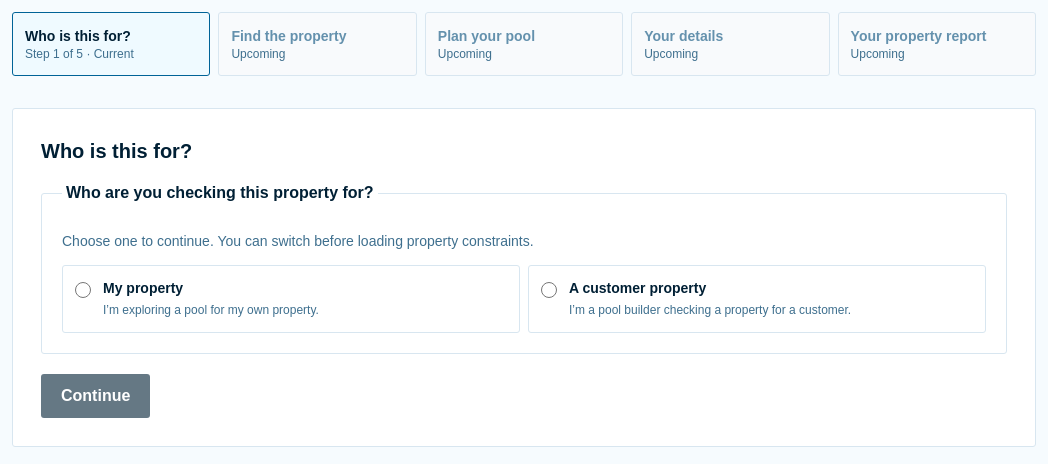
Test: PropertyCheckJourney › announces when autocomplete has no matching addresses
Click the radio button labelled "My property": (83,290) [75,282,91,298]
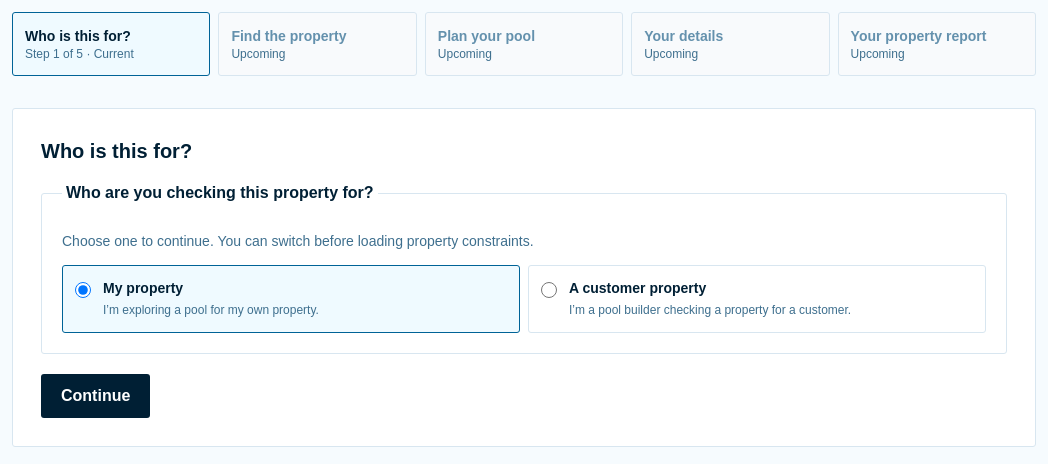
Click the button "Continue": (96,396) [41,374,150,418]
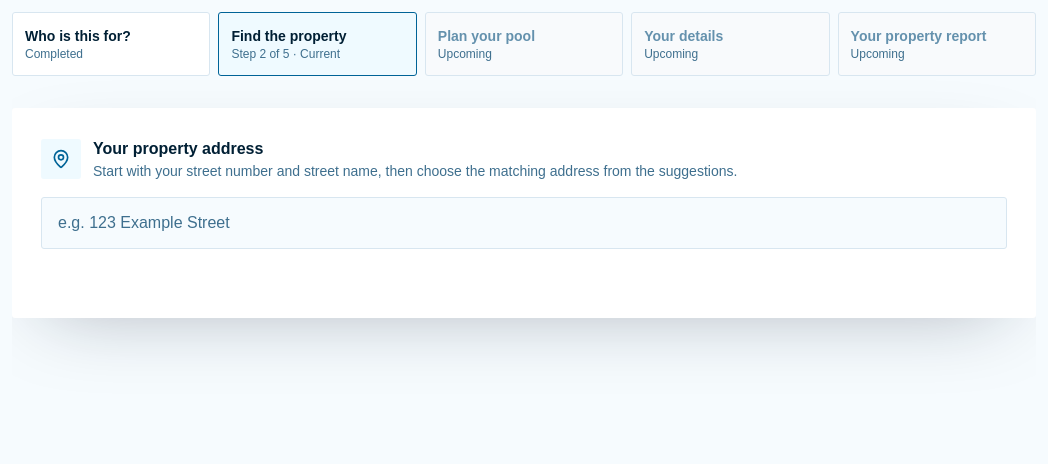
In the field named "Auckland property address": (524,223) [41,197,1007,249], type "42A Bahari"
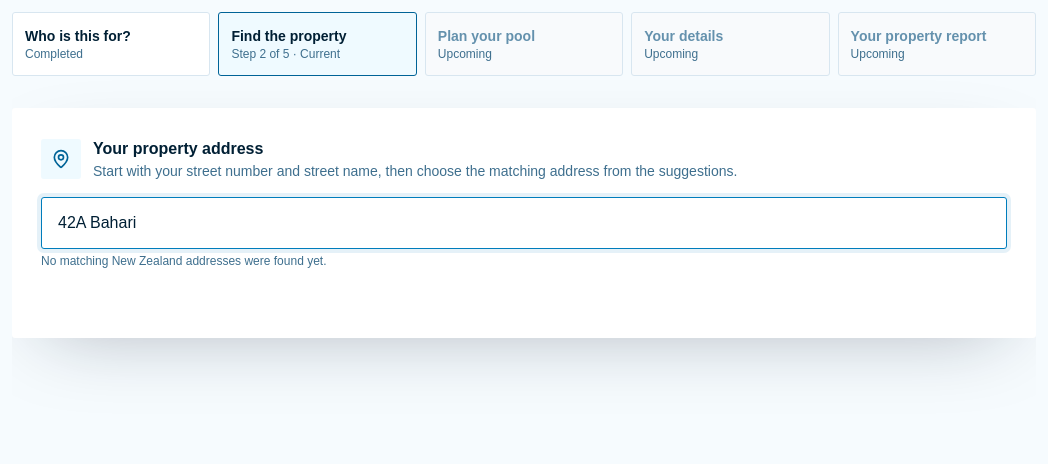
Check: the text "No matching New Zealand addresses were found yet." is shown, box [41,254,326,268]
